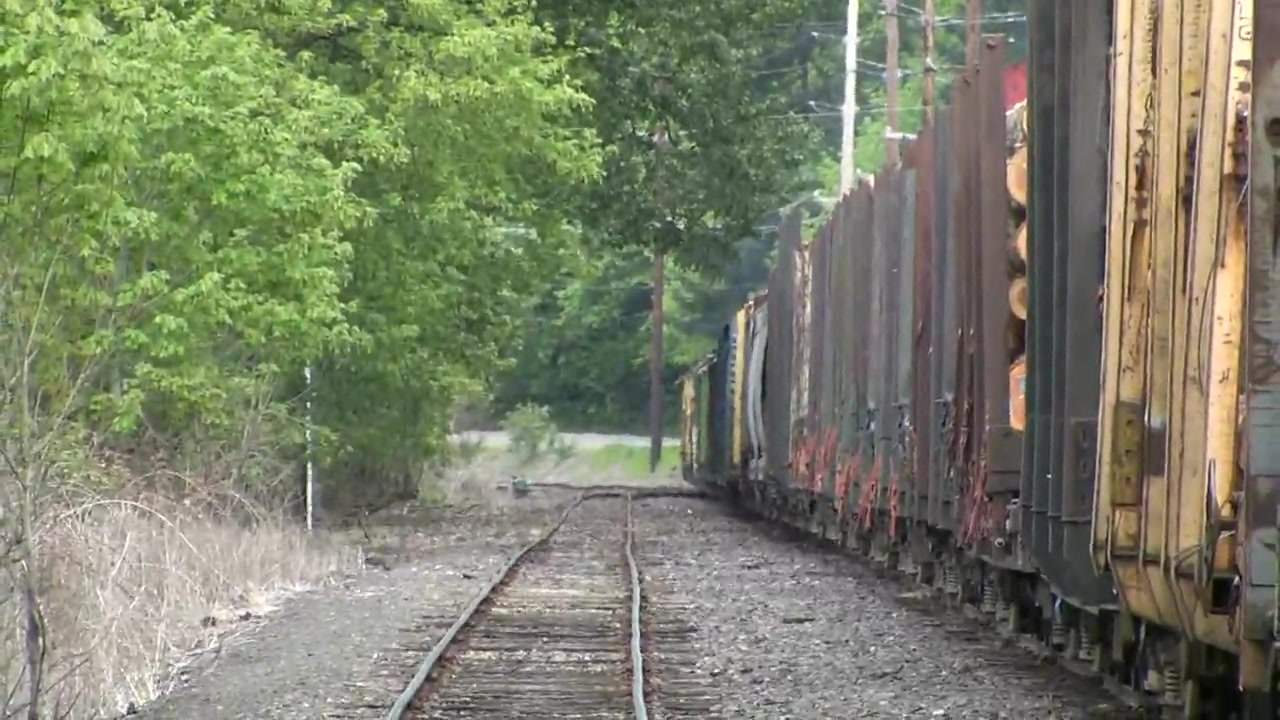train: (679, 1, 1280, 720)
